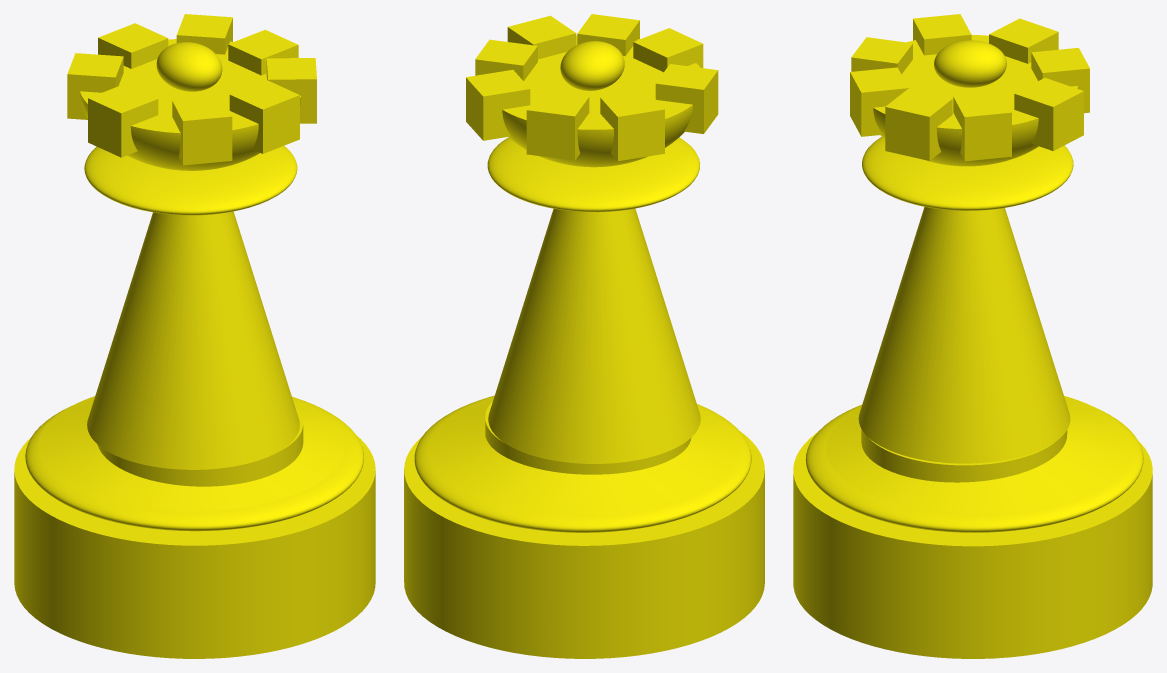
The model's file is queen.fbx.
3 renders of one model, left to right at view 1: azimuth 30°, elevation 25°; view 2: azimuth 150°, elevation 25°; view 3: azimuth 270°, elevation 25°, orthographic.
Visible parts, largest first — view 1: node_id17, node_id11, node_id13, node_id21, node_id19, node_id23, node_id7, node_id15, node_id5, node_id29, node_id25, node_id36 (+4 smaller); view 2: node_id17, node_id11, node_id13, node_id21, node_id19, node_id23, node_id36, node_id27, node_id9, node_id5, node_id25, node_id15 (+4 smaller); view 3: node_id17, node_id11, node_id13, node_id21, node_id19, node_id23, node_id15, node_id34, node_id9, node_id32, node_id25, node_id29 (+4 smaller).
Boxes of the visible parts, x1,y1,x2,y2 form: node_id17: (14,435,375,658); node_id11: (87,211,299,469); node_id13: (38,396,344,511); node_id21: (84,146,297,215); node_id19: (25,396,363,531); node_id23: (80,39,301,170); node_id7: (172,96,232,165); node_id15: (97,407,303,486); node_id5: (88,84,158,157); node_id29: (229,80,299,153); node_id25: (156,42,222,91); node_id36: (67,53,123,119); node_id17: (404,430,764,658); node_id11: (488,208,700,463); node_id13: (429,398,735,515); node_id21: (487,137,699,212); node_id19: (414,395,751,532); node_id23: (502,35,700,167); node_id36: (600,90,664,161); node_id27: (526,90,589,160); node_id9: (466,69,530,140); node_id5: (655,64,718,133); node_id25: (560,41,624,90); node_id15: (485,401,691,474); node_id17: (793,432,1152,658); node_id11: (858,207,1070,463); node_id13: (826,396,1131,513); node_id21: (862,137,1073,210); node_id19: (805,404,1143,532); node_id23: (873,35,1078,166); node_id15: (861,429,1067,482); node_id34: (885,89,952,160); node_id9: (1014,78,1083,150); node_id32: (953,92,1011,161); node_id25: (934,40,1006,87); node_id29: (850,67,908,136).
Size of the model in its own units: 0.3114 by 0.512 by 0.3114.
17 materials, 17 textured.
